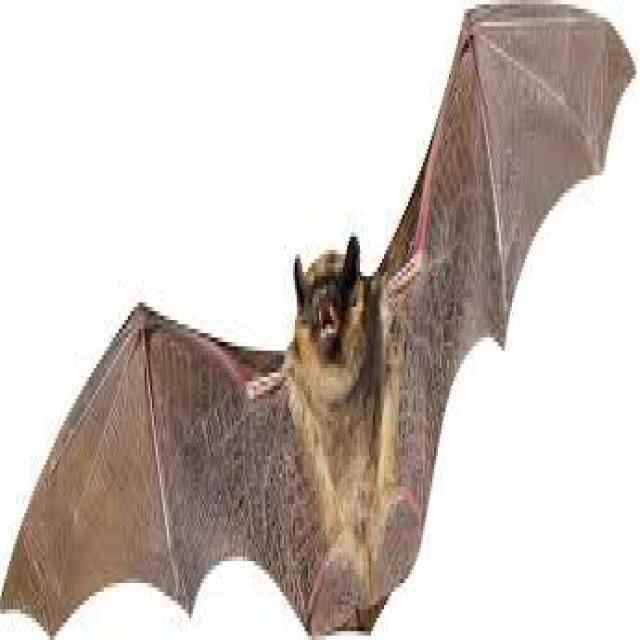Bat: (10, 0, 633, 631)
